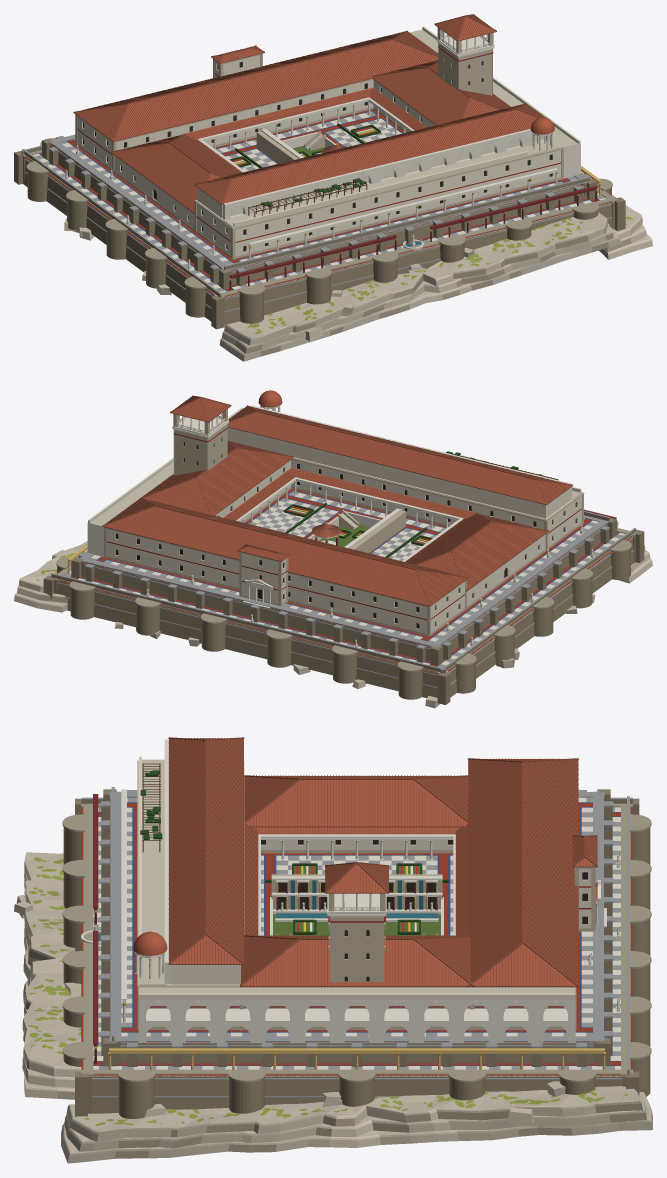
Rendered from rome_transitoria.glb.
3 views of the same model, one above another, from view 1: azimuth 30°, elevation 25°; view 2: azimuth 150°, elevation 25°; view 3: azimuth 270°, elevation 25° (orthographic). The views are drawn at different scales.
Visible parts, largest first — view 1: rome_transitoria; view 2: rome_transitoria; view 3: rome_transitoria.
Boxes of the visible parts, bbox=[...] form: rome_transitoria: bbox=[14, 14, 652, 361]; rome_transitoria: bbox=[14, 390, 652, 708]; rome_transitoria: bbox=[14, 737, 652, 1163].
Bounding box in the file's own units: 153 × 57.22 × 134.
